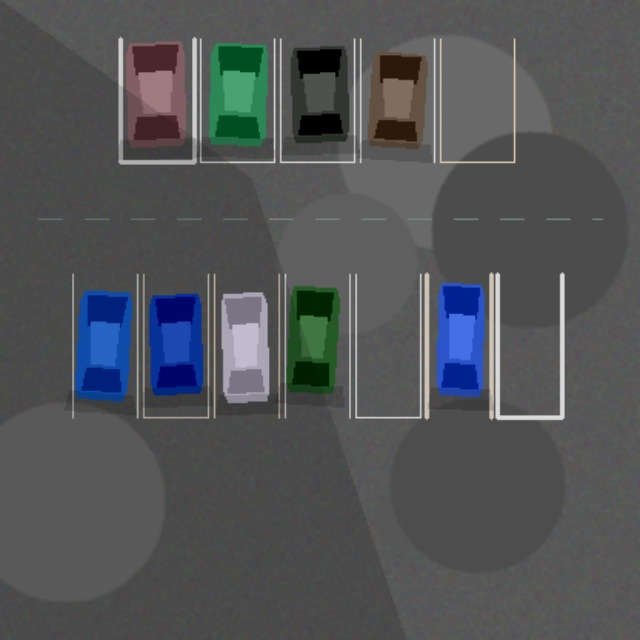space-empty: (355, 274, 420, 417), (497, 274, 562, 417), (440, 38, 514, 162)
space-occupied: (72, 274, 137, 417), (143, 274, 208, 417), (426, 274, 491, 417), (120, 38, 194, 162), (200, 38, 274, 162), (280, 38, 354, 162), (360, 38, 434, 162), (214, 274, 278, 417), (285, 274, 349, 417)
